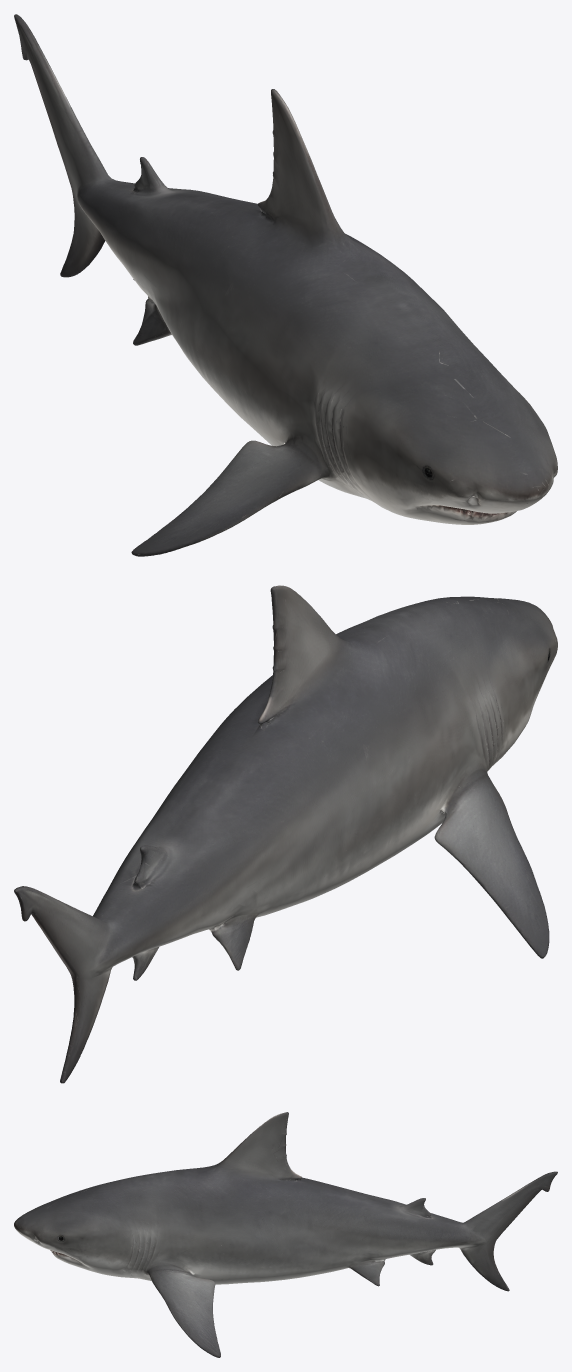
Rendered from bullenhai_original.glb.
3 renders of one model, top to bottom at view 1: azimuth 30°, elevation 25°; view 2: azimuth 150°, elevation 25°; view 3: azimuth 270°, elevation 25°, orthographic. The views are drawn at different scales.
Parts seen in each view (by area): view 1: Mesh1.0; view 2: Mesh1.0; view 3: Mesh1.0.
Part boxes in pixels (x1,y1,x2,y2): Mesh1.0: (14,14,557,556); Mesh1.0: (14,585,557,1083); Mesh1.0: (14,1112,557,1357).
Size of the model in its own units: 0.8721 by 0.745 by 1.9.
1 material, 1 textured.
